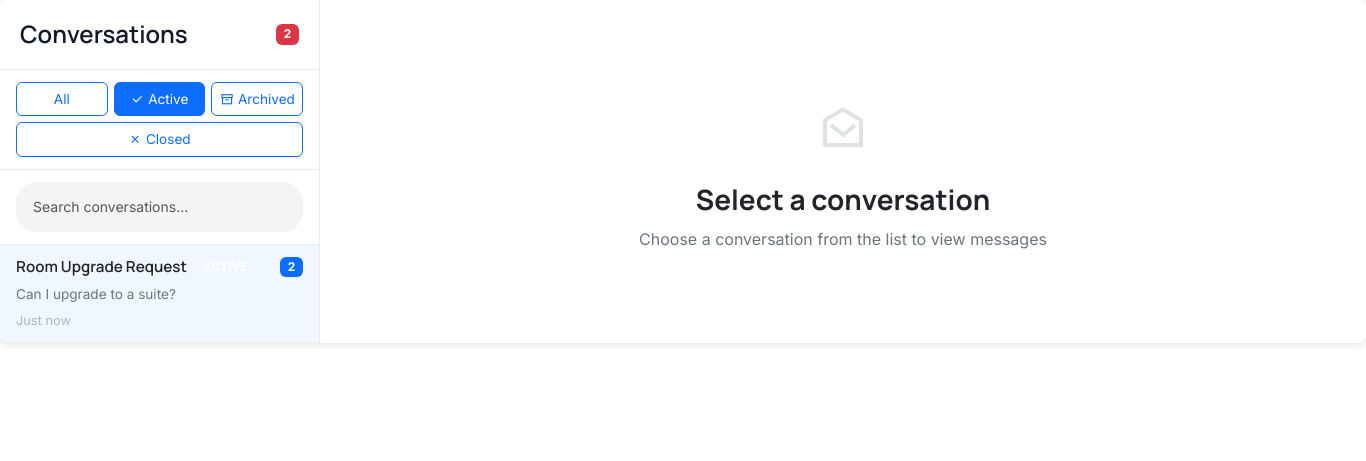
Test: HotelMessagesPage › displays empty state for search with no results
expect the heading "Room Upgrade Request" is shown: met, box x1=16 y1=258 x2=187 y2=276
In the field with placeholder "Search conversations...": (160, 207) x1=16 y1=182 x2=303 y2=232, type "NonexistentConversation"
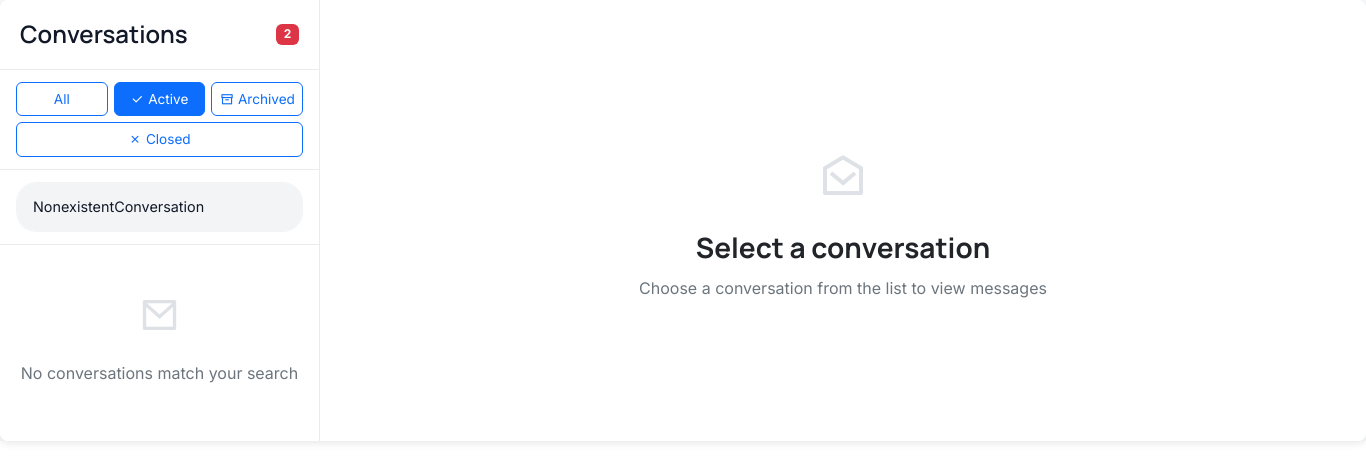
expect the text "No conversations match your search" is shown: met, box x1=21 y1=360 x2=298 y2=386
